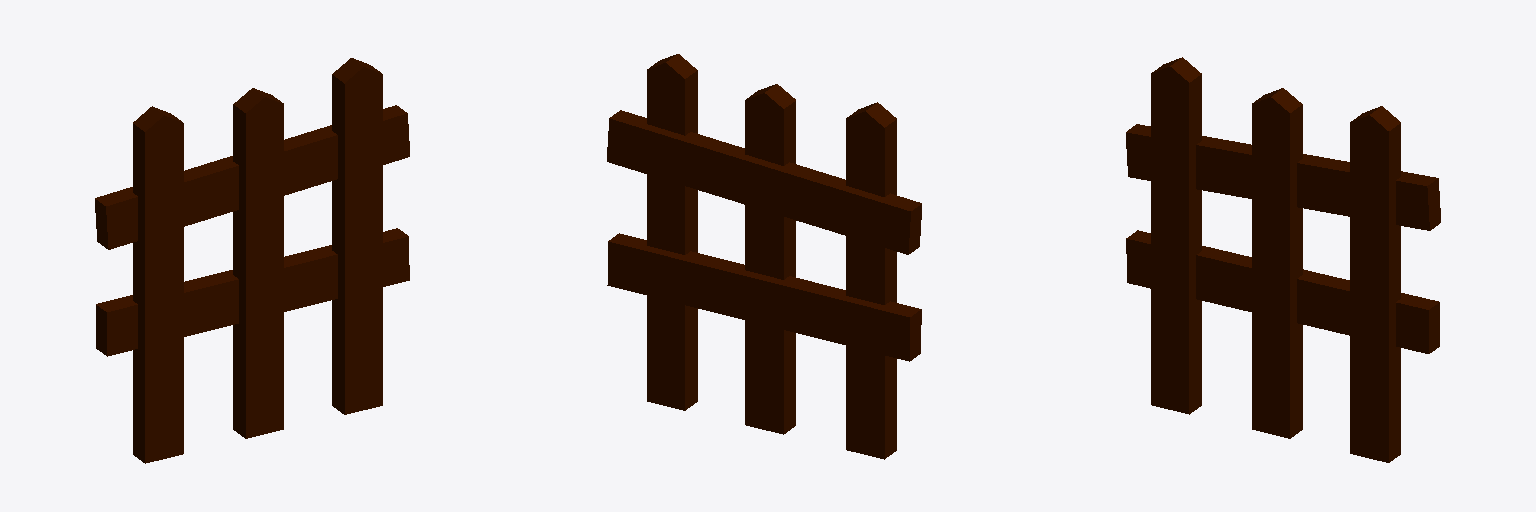
File: Fence.obj
The picture shows the model from 3 angles: view 1: azimuth 30°, elevation 25°; view 2: azimuth 150°, elevation 25°; view 3: azimuth 330°, elevation 25°; orthographic projection.
Visible parts, largest first — view 1: 立方体; view 2: 立方体; view 3: 立方体.
Boxes of the visible parts, x1=… form: 立方体: x1=95, y1=58, x2=409, y2=463; 立方体: x1=607, y1=54, x2=921, y2=459; 立方体: x1=1126, y1=57, x2=1440, y2=462.
Size of the model in its own units: 1.92 by 2.07 by 0.1997.